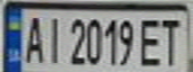0: (84, 15, 103, 66)
1: (103, 15, 121, 66)
2: (63, 14, 87, 65)
9: (118, 15, 139, 66)
A: (21, 12, 48, 64)
E: (136, 15, 166, 67)
I: (42, 12, 66, 65)
T: (157, 15, 187, 67)
